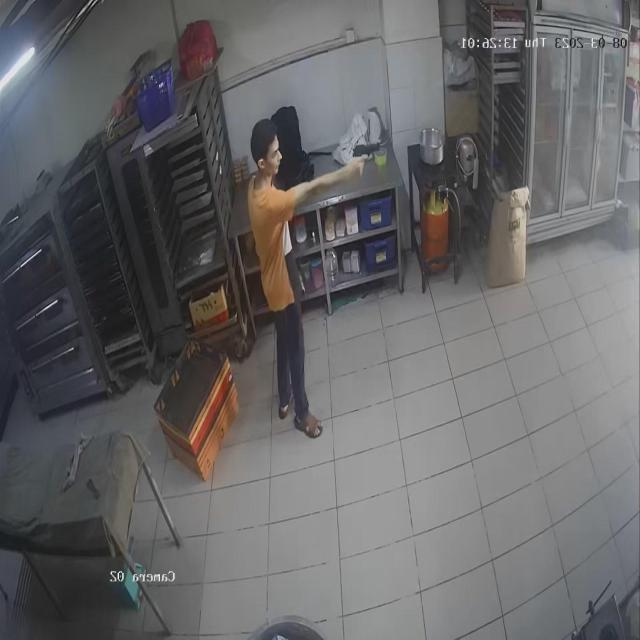Gun: (352, 138, 390, 170)
